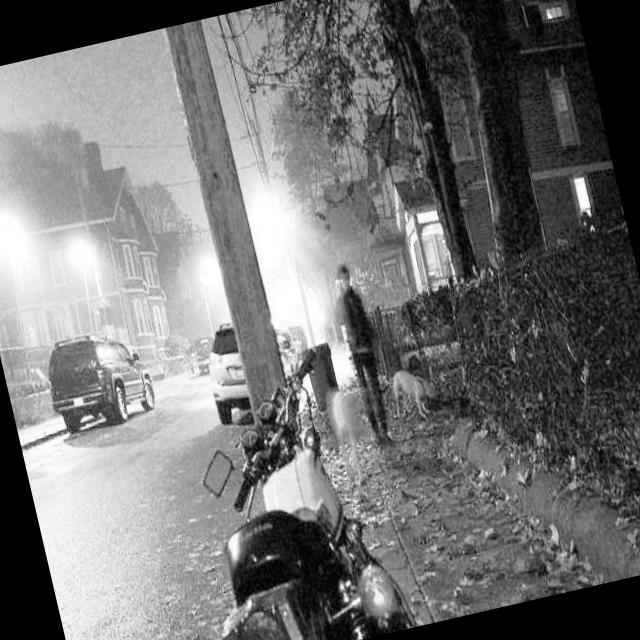Car: (26, 304, 176, 484), (182, 286, 309, 425)
Dog: (388, 350, 479, 452)
Motorcycle: (151, 333, 403, 640)
Person: (321, 230, 414, 468)
